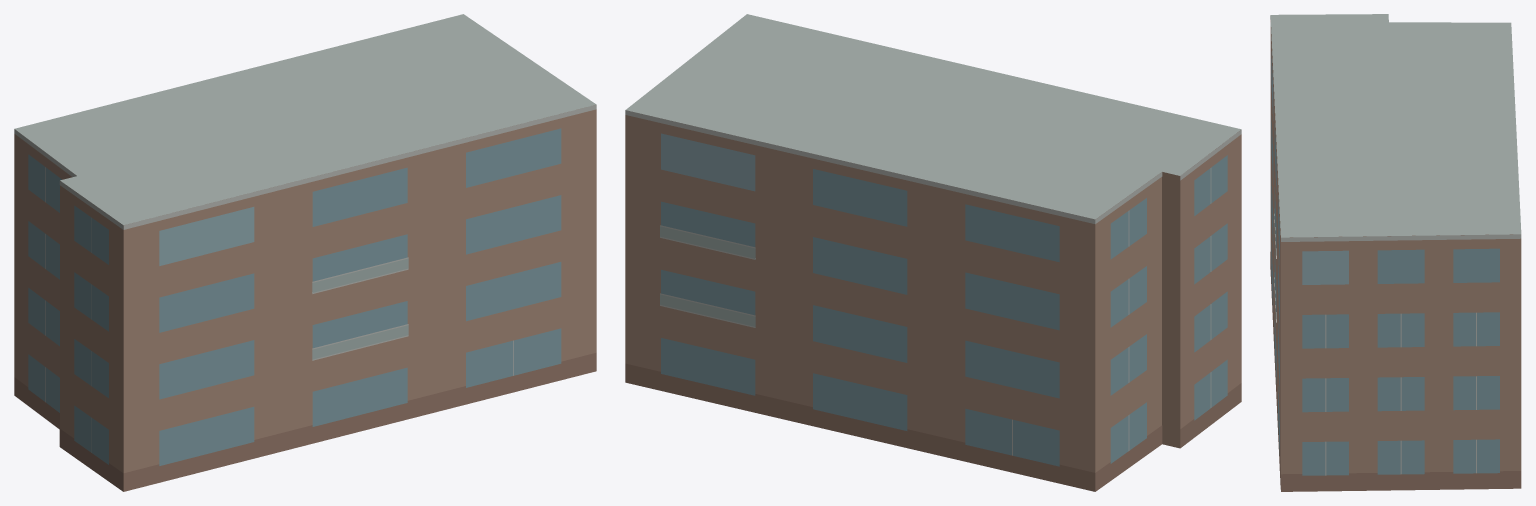
Rendered from survey-upis-32999581.glb.
3 renders of one model, left to right at view 1: azimuth 30°, elevation 25°; view 2: azimuth 150°, elevation 25°; view 3: azimuth 270°, elevation 25°, orthographic. The views are drawn at different scales.
Parts seen in each view (by area): view 1: survey-upis-32999581.tmp; view 2: survey-upis-32999581.tmp; view 3: survey-upis-32999581.tmp.
Part boxes in pixels (bbox=[...]): survey-upis-32999581.tmp: bbox=[14, 14, 596, 491]; survey-upis-32999581.tmp: bbox=[625, 14, 1241, 491]; survey-upis-32999581.tmp: bbox=[1270, 14, 1521, 491].
Size of the model in its own units: 26.03 by 13.8 by 12.34.
